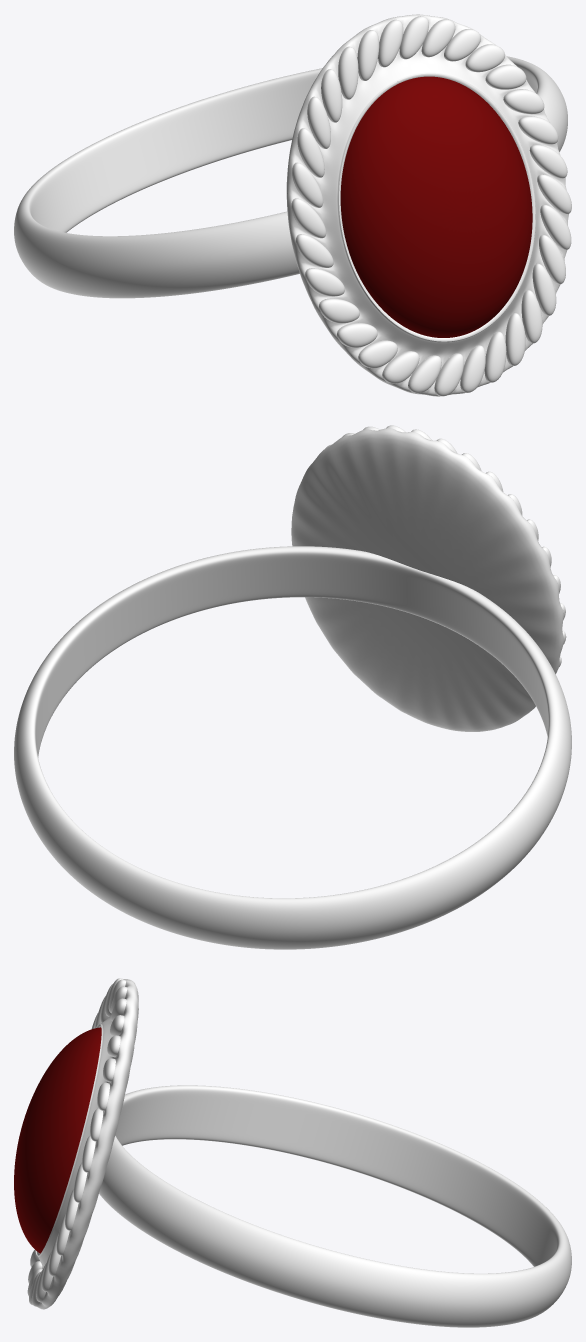
The model's file is ringred.glb.
3 renders of one model, top to bottom at view 1: azimuth 30°, elevation 25°; view 2: azimuth 150°, elevation 25°; view 3: azimuth 270°, elevation 25°, orthographic. The views are drawn at different scales.
Parts seen in each view (by area): view 1: Sphere; view 2: Sphere; view 3: Sphere.
Part boxes in pixels (left/top/right/bottom): Sphere: left=14, top=14, right=571, bottom=396; Sphere: left=14, top=425, right=571, bottom=949; Sphere: left=14, top=978, right=571, bottom=1327.
Bounding box in the file's own units: 2.04 × 1.37 × 2.28.
